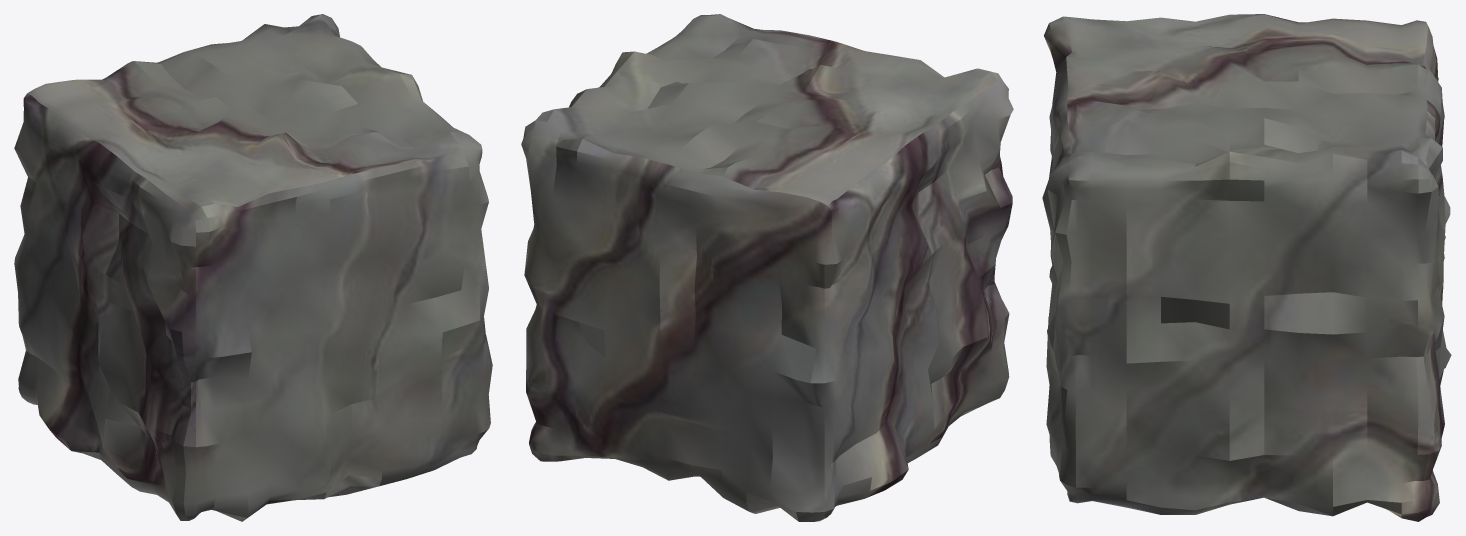
File: stone.fbx
The picture shows the model from 3 angles, left to right: view 1: azimuth 30°, elevation 25°; view 2: azimuth 150°, elevation 25°; view 3: azimuth 270°, elevation 25°; orthographic projection. The views are drawn at different scales.
Visible parts, largest first — view 1: rock; view 2: rock; view 3: rock.
Part boxes in pixels (x1=…): rock: x1=14, y1=14, x2=492, y2=521; rock: x1=521, y1=14, x2=1013, y2=521; rock: x1=1042, y1=14, x2=1451, y2=521.
Bounding box in the file's own units: 218 × 218 × 216.
